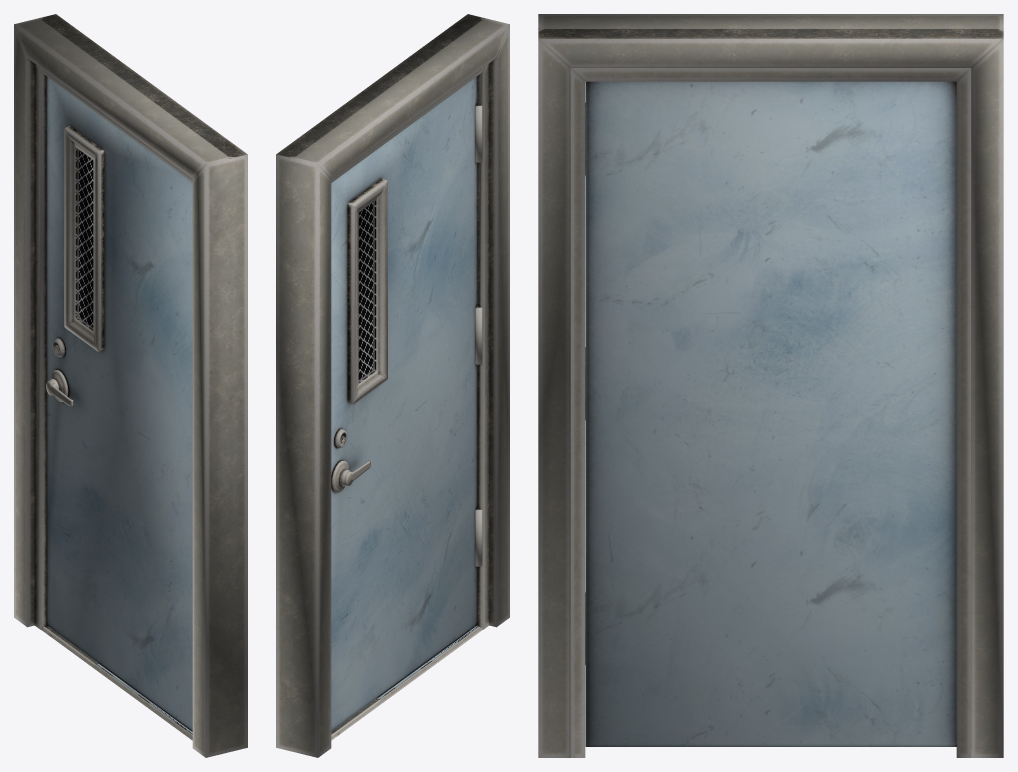
File: Door.fbx
3 renders of one model, left to right at view 1: azimuth 30°, elevation 25°; view 2: azimuth 150°, elevation 25°; view 3: azimuth 270°, elevation 25°, orthographic. The views are drawn at different scales.
Visible parts, largest first — view 1: door, edge; view 2: door, edge; view 3: door, edge.
Part boxes in pixels (x1=…): door: x1=34, y1=64, x2=192, y2=731; edge: x1=14, y1=14, x2=247, y2=757; door: x1=331, y1=64, x2=489, y2=731; edge: x1=276, y1=14, x2=509, y2=757; door: x1=570, y1=68, x2=971, y2=757; edge: x1=538, y1=14, x2=1003, y2=757.
Size of the model in its own units: 20.34 by 274 by 161.
1 material, 1 textured.
